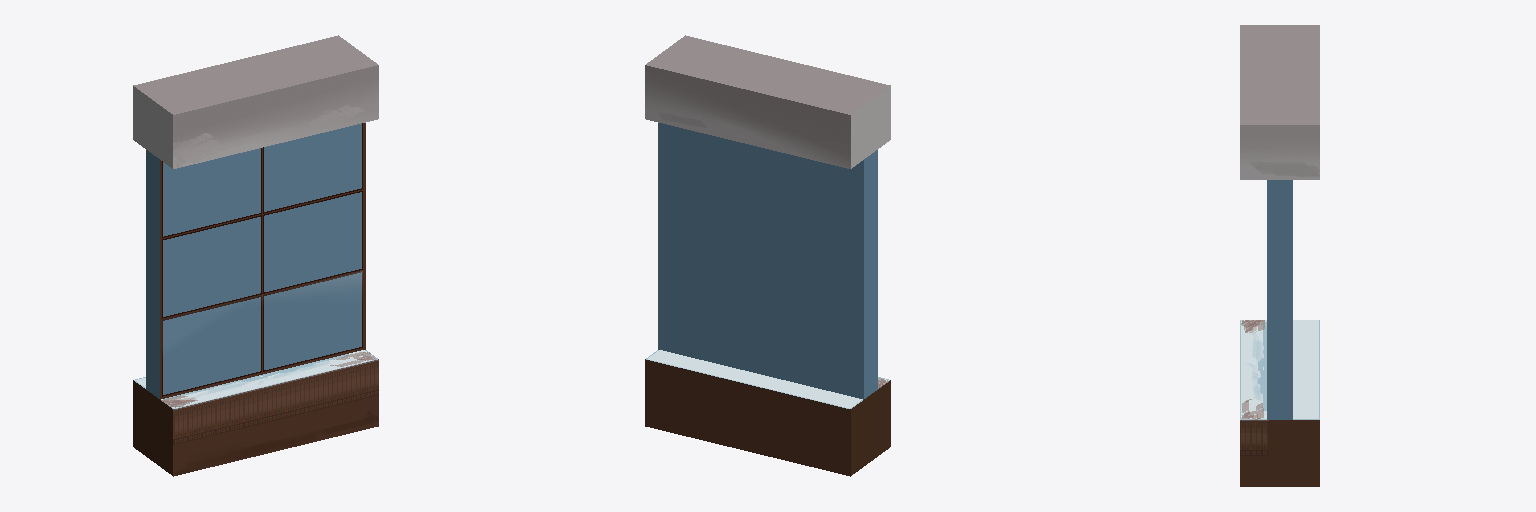
3 renders of one model, left to right at view 1: azimuth 30°, elevation 25°; view 2: azimuth 150°, elevation 25°; view 3: azimuth 270°, elevation 25°, orthographic.
Visible parts, largest first — view 1: window, up, down; view 2: window, up, down; view 3: up, down, window.
Part boxes in pixels (x1,y1,x2,y2): window: (146, 123, 365, 399); up: (133, 35, 378, 168); down: (133, 350, 378, 476); window: (658, 123, 877, 399); up: (645, 35, 890, 168); down: (645, 350, 890, 476); up: (1240, 25, 1319, 179); down: (1240, 320, 1319, 486); window: (1267, 180, 1292, 419).
Size of the model in its own units: 5.52 by 9.27 by 1.88.
2 materials, 2 textured.